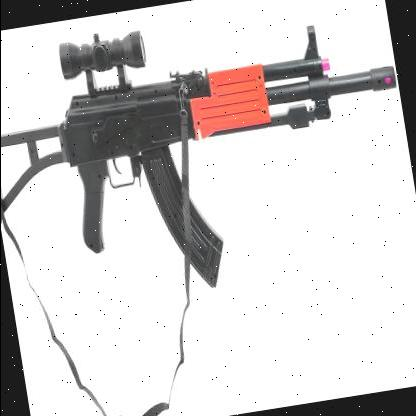rifle: (0, 0, 416, 322)
